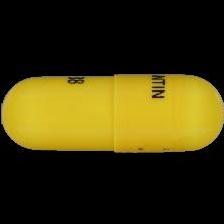33261-226: (0, 0, 224, 224)
